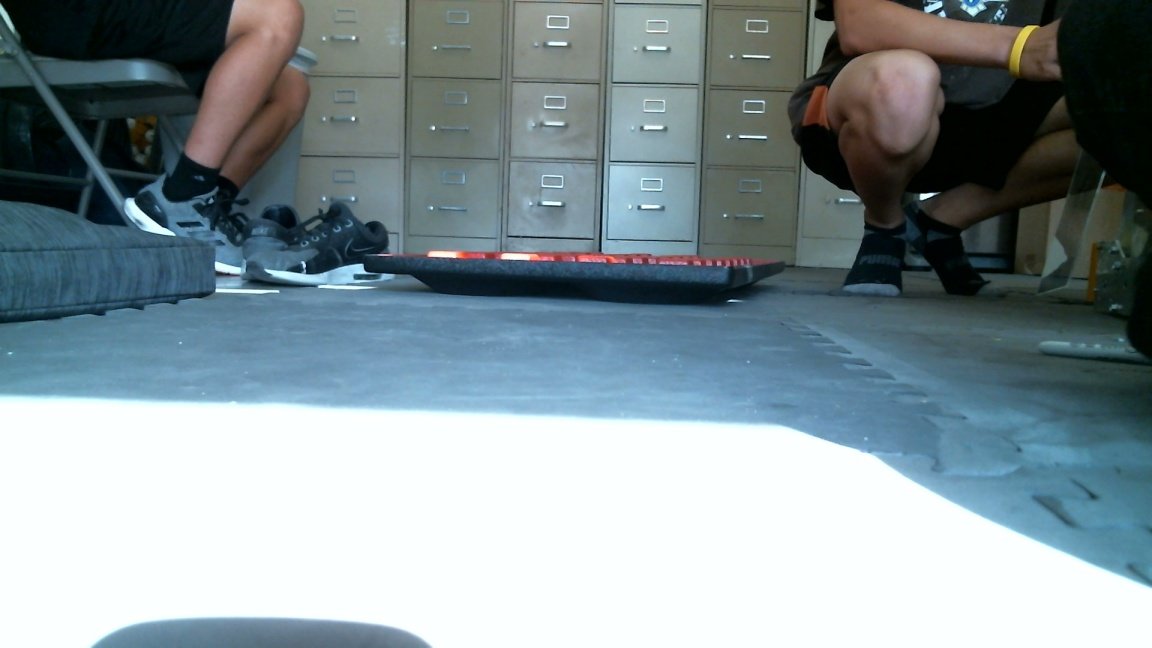red_foundation: (367, 236, 786, 326)
